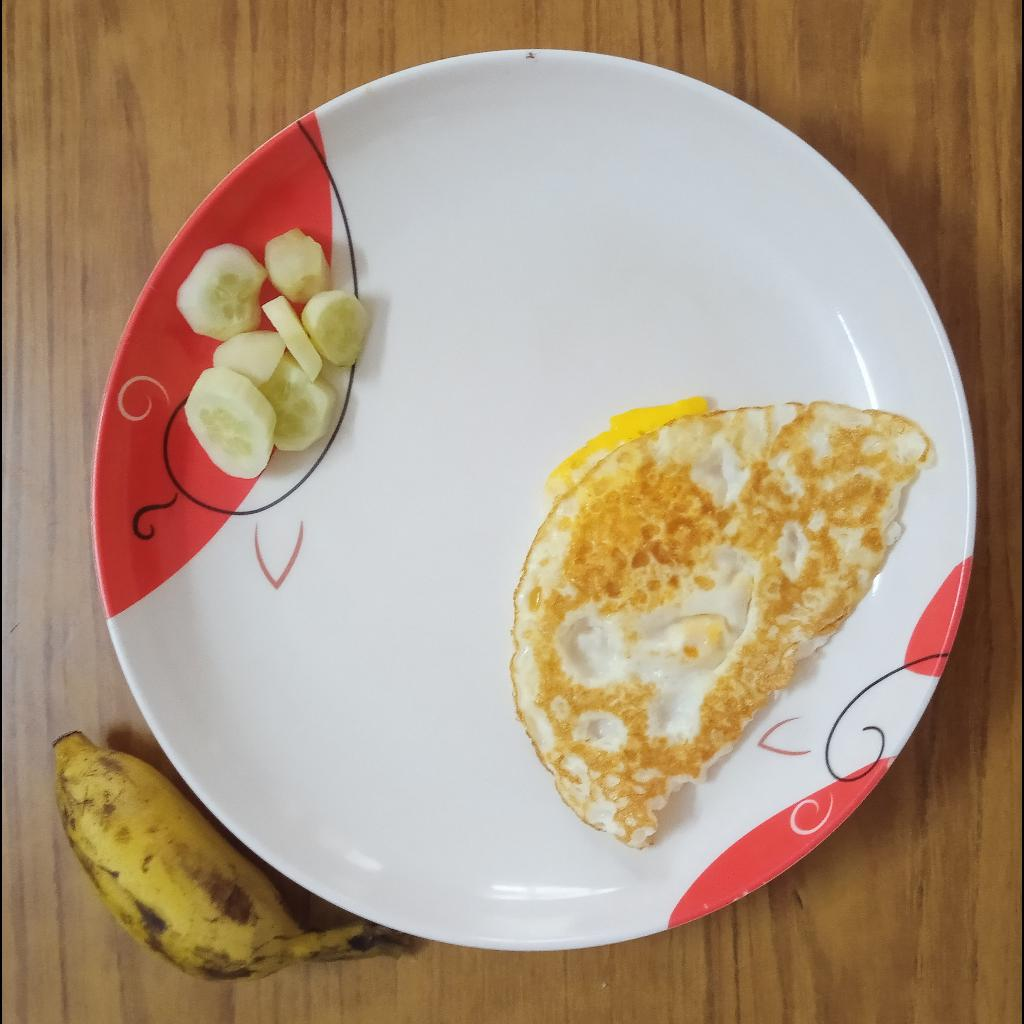banana: (50, 724, 418, 983)
cucumber: (175, 224, 371, 480)
egg-poached: (505, 399, 937, 852)
